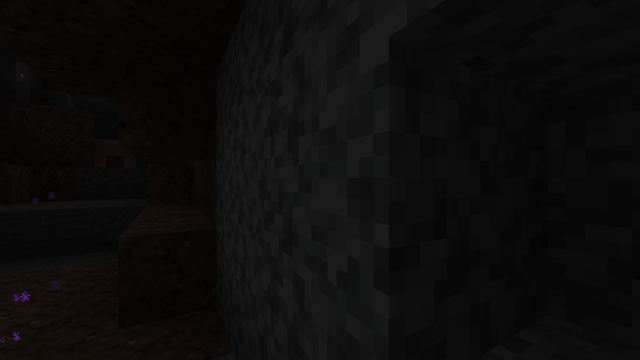cochons: (96, 137, 136, 168)
